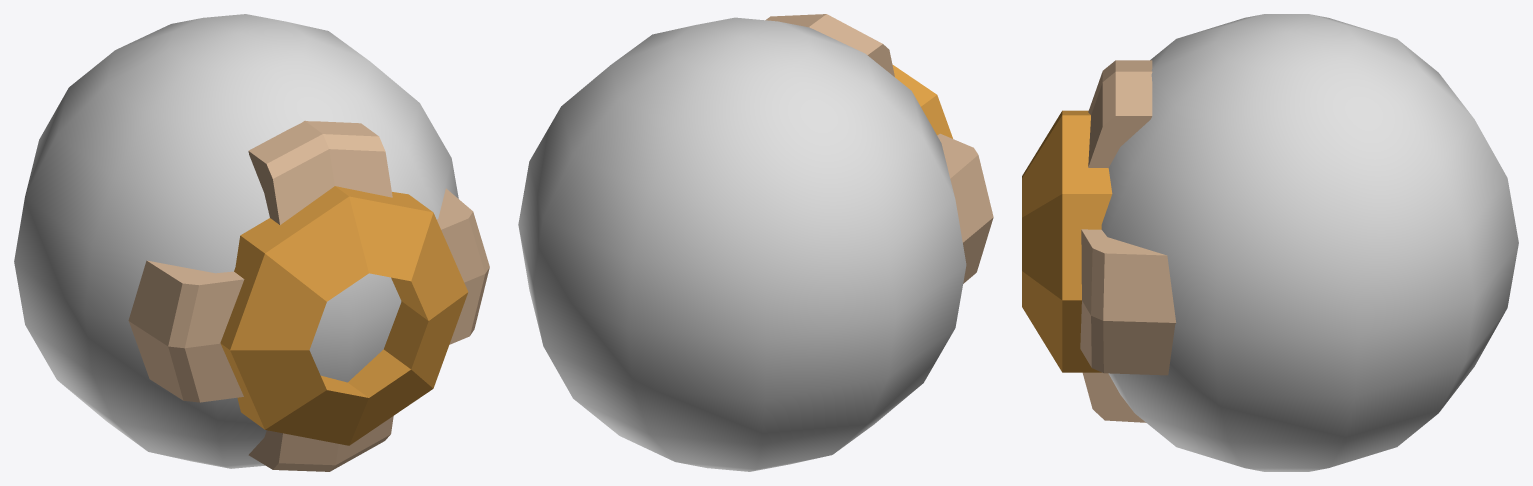
The model's file is Redirection_Orb.fbx.
3 renders of one model, left to right at view 1: azimuth 30°, elevation 25°; view 2: azimuth 150°, elevation 25°; view 3: azimuth 270°, elevation 25°, orthographic.
Visible parts, largest first — view 1: Redirection Orb, Orb Decal; view 2: Redirection Orb, Orb Decal; view 3: Redirection Orb, Orb Decal.
Boxes of the visible parts, x1,y1,x2,y2 form: Redirection Orb: (14, 14, 458, 468); Orb Decal: (128, 120, 489, 471); Redirection Orb: (518, 17, 966, 471); Orb Decal: (765, 14, 993, 283); Redirection Orb: (1101, 14, 1518, 471); Orb Decal: (1022, 60, 1176, 422).
Size of the model in its own units: 47.55 by 50 by 53.5.
Materials: 2 (1 with a texture image).
